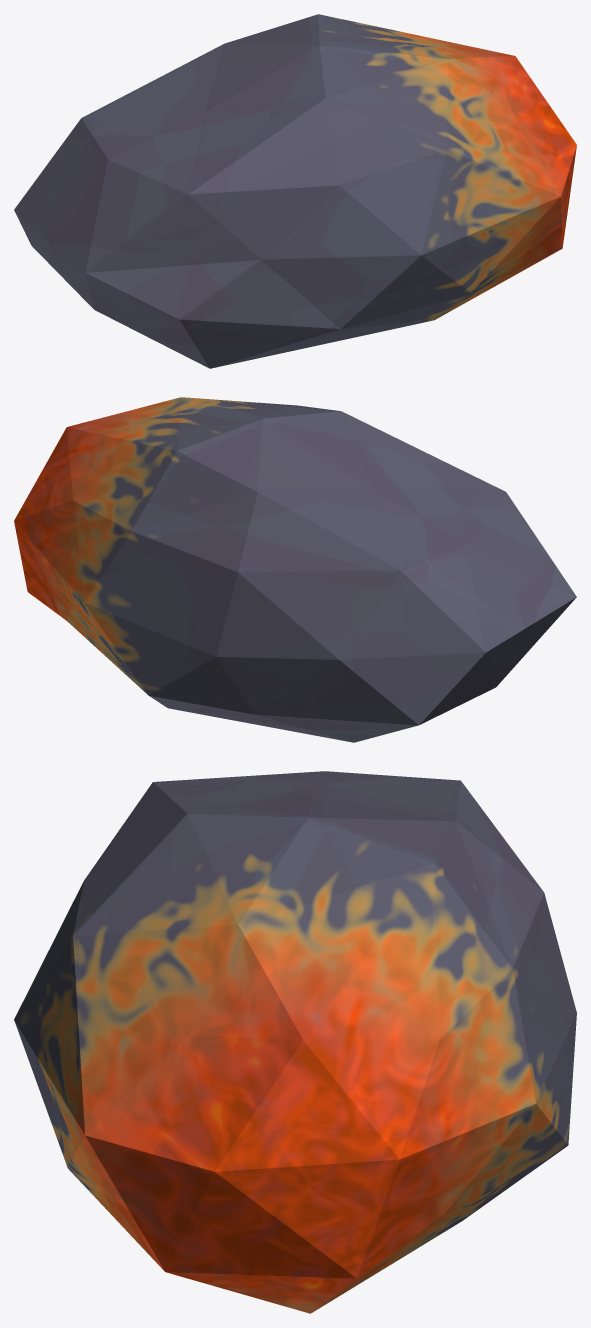
3 renders of one model, top to bottom at view 1: azimuth 30°, elevation 25°; view 2: azimuth 150°, elevation 25°; view 3: azimuth 270°, elevation 25°, orthographic. The views are drawn at different scales.
Visible parts, largest first — view 1: метиорит.008; view 2: метиорит.008; view 3: метиорит.008.
Part boxes in pixels (x1=…): метиорит.008: x1=14, y1=14, x2=576, y2=368; метиорит.008: x1=14, y1=397, x2=576, y2=742; метиорит.008: x1=14, y1=771, x2=576, y2=1313.
Bounding box in the file's own units: 427 × 233 × 286.
